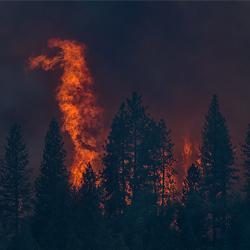fire: (58, 56, 100, 144), (71, 148, 94, 177)
